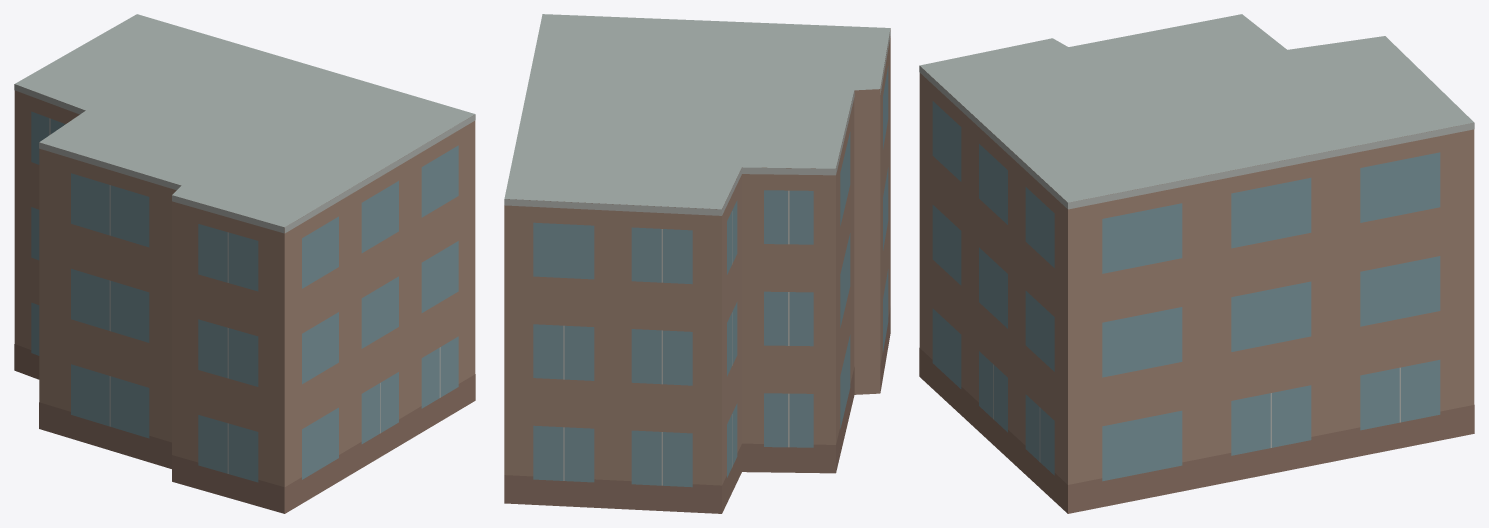
Rendered from survey-upis-32828248.glb.
The picture shows the model from 3 angles, left to right: view 1: azimuth 30°, elevation 25°; view 2: azimuth 150°, elevation 25°; view 3: azimuth 270°, elevation 25°; orthographic projection. The views are drawn at different scales.
Visible parts, largest first — view 1: survey-upis-32828248.tmp; view 2: survey-upis-32828248.tmp; view 3: survey-upis-32828248.tmp.
Part boxes in pixels (box(x1,y1,x2,y2)): survey-upis-32828248.tmp: box(14, 14, 475, 513); survey-upis-32828248.tmp: box(504, 14, 890, 513); survey-upis-32828248.tmp: box(919, 14, 1474, 513).
Size of the model in its own units: 14.64 by 11.25 by 18.2.
